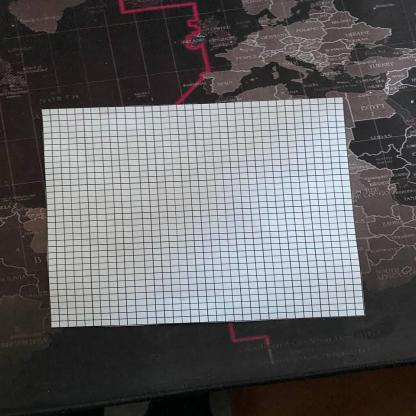grid: (37, 97, 370, 333)
